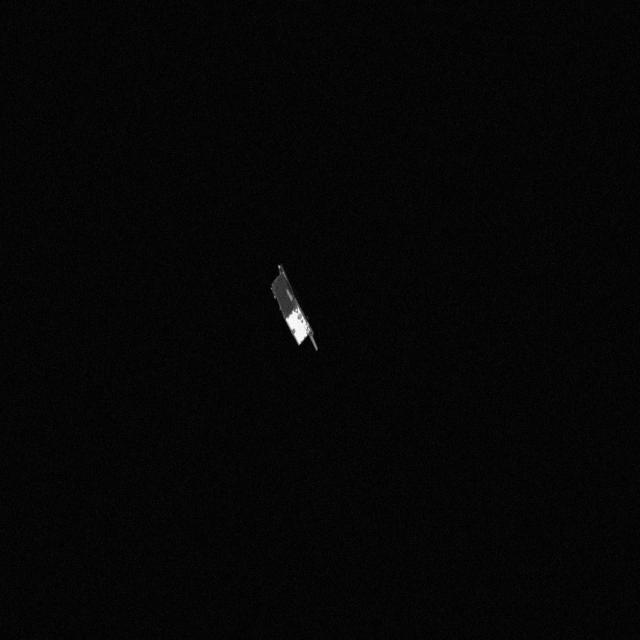medium_debris: (268, 260, 332, 366)
